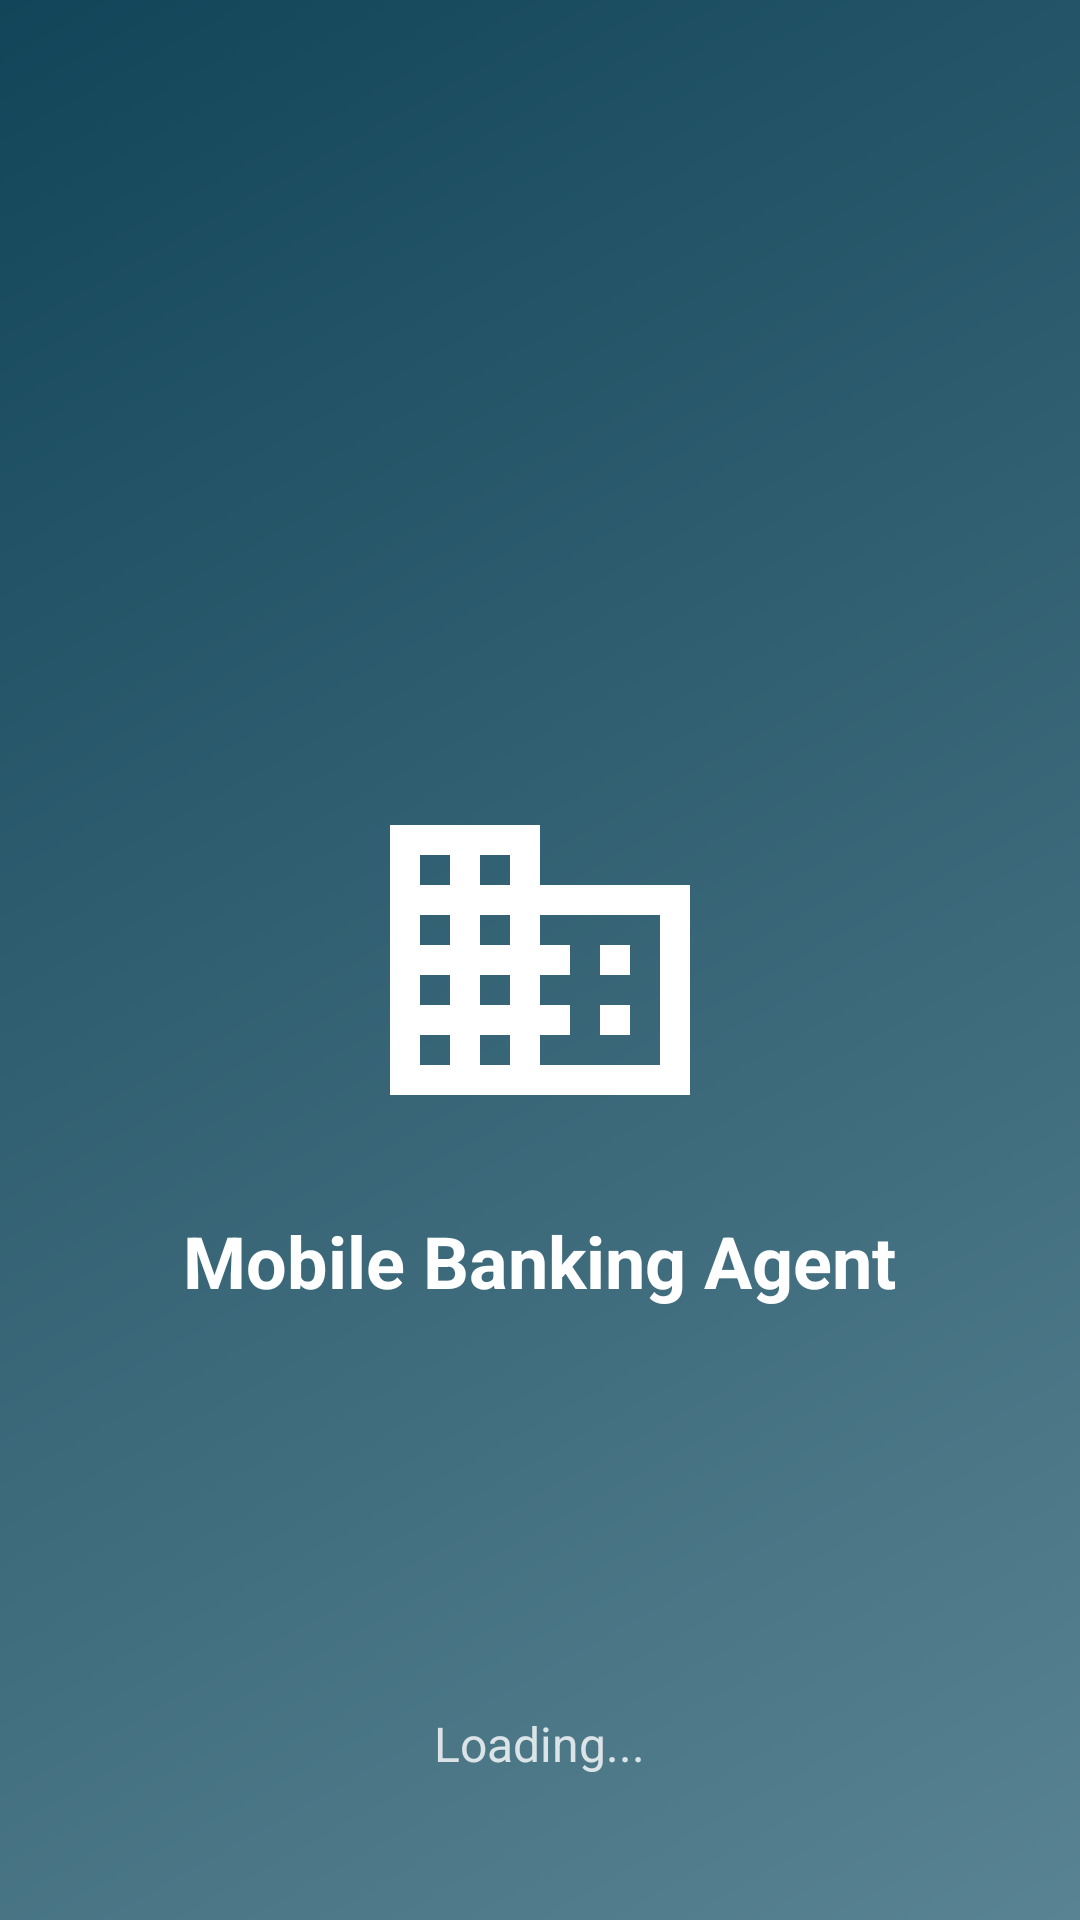

Icons on this 1080px x 1920px Android screen, each with its box as box=[x1, y1, x2, y2]:
Banking App Icon: box=[390, 825, 690, 1095]
